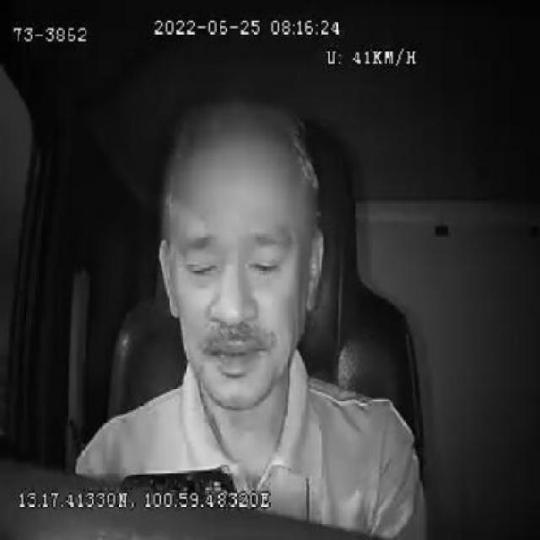phone: (124, 464, 235, 488)
